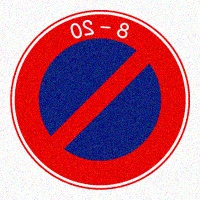Prohibition_sign: (9, 6, 193, 193)
